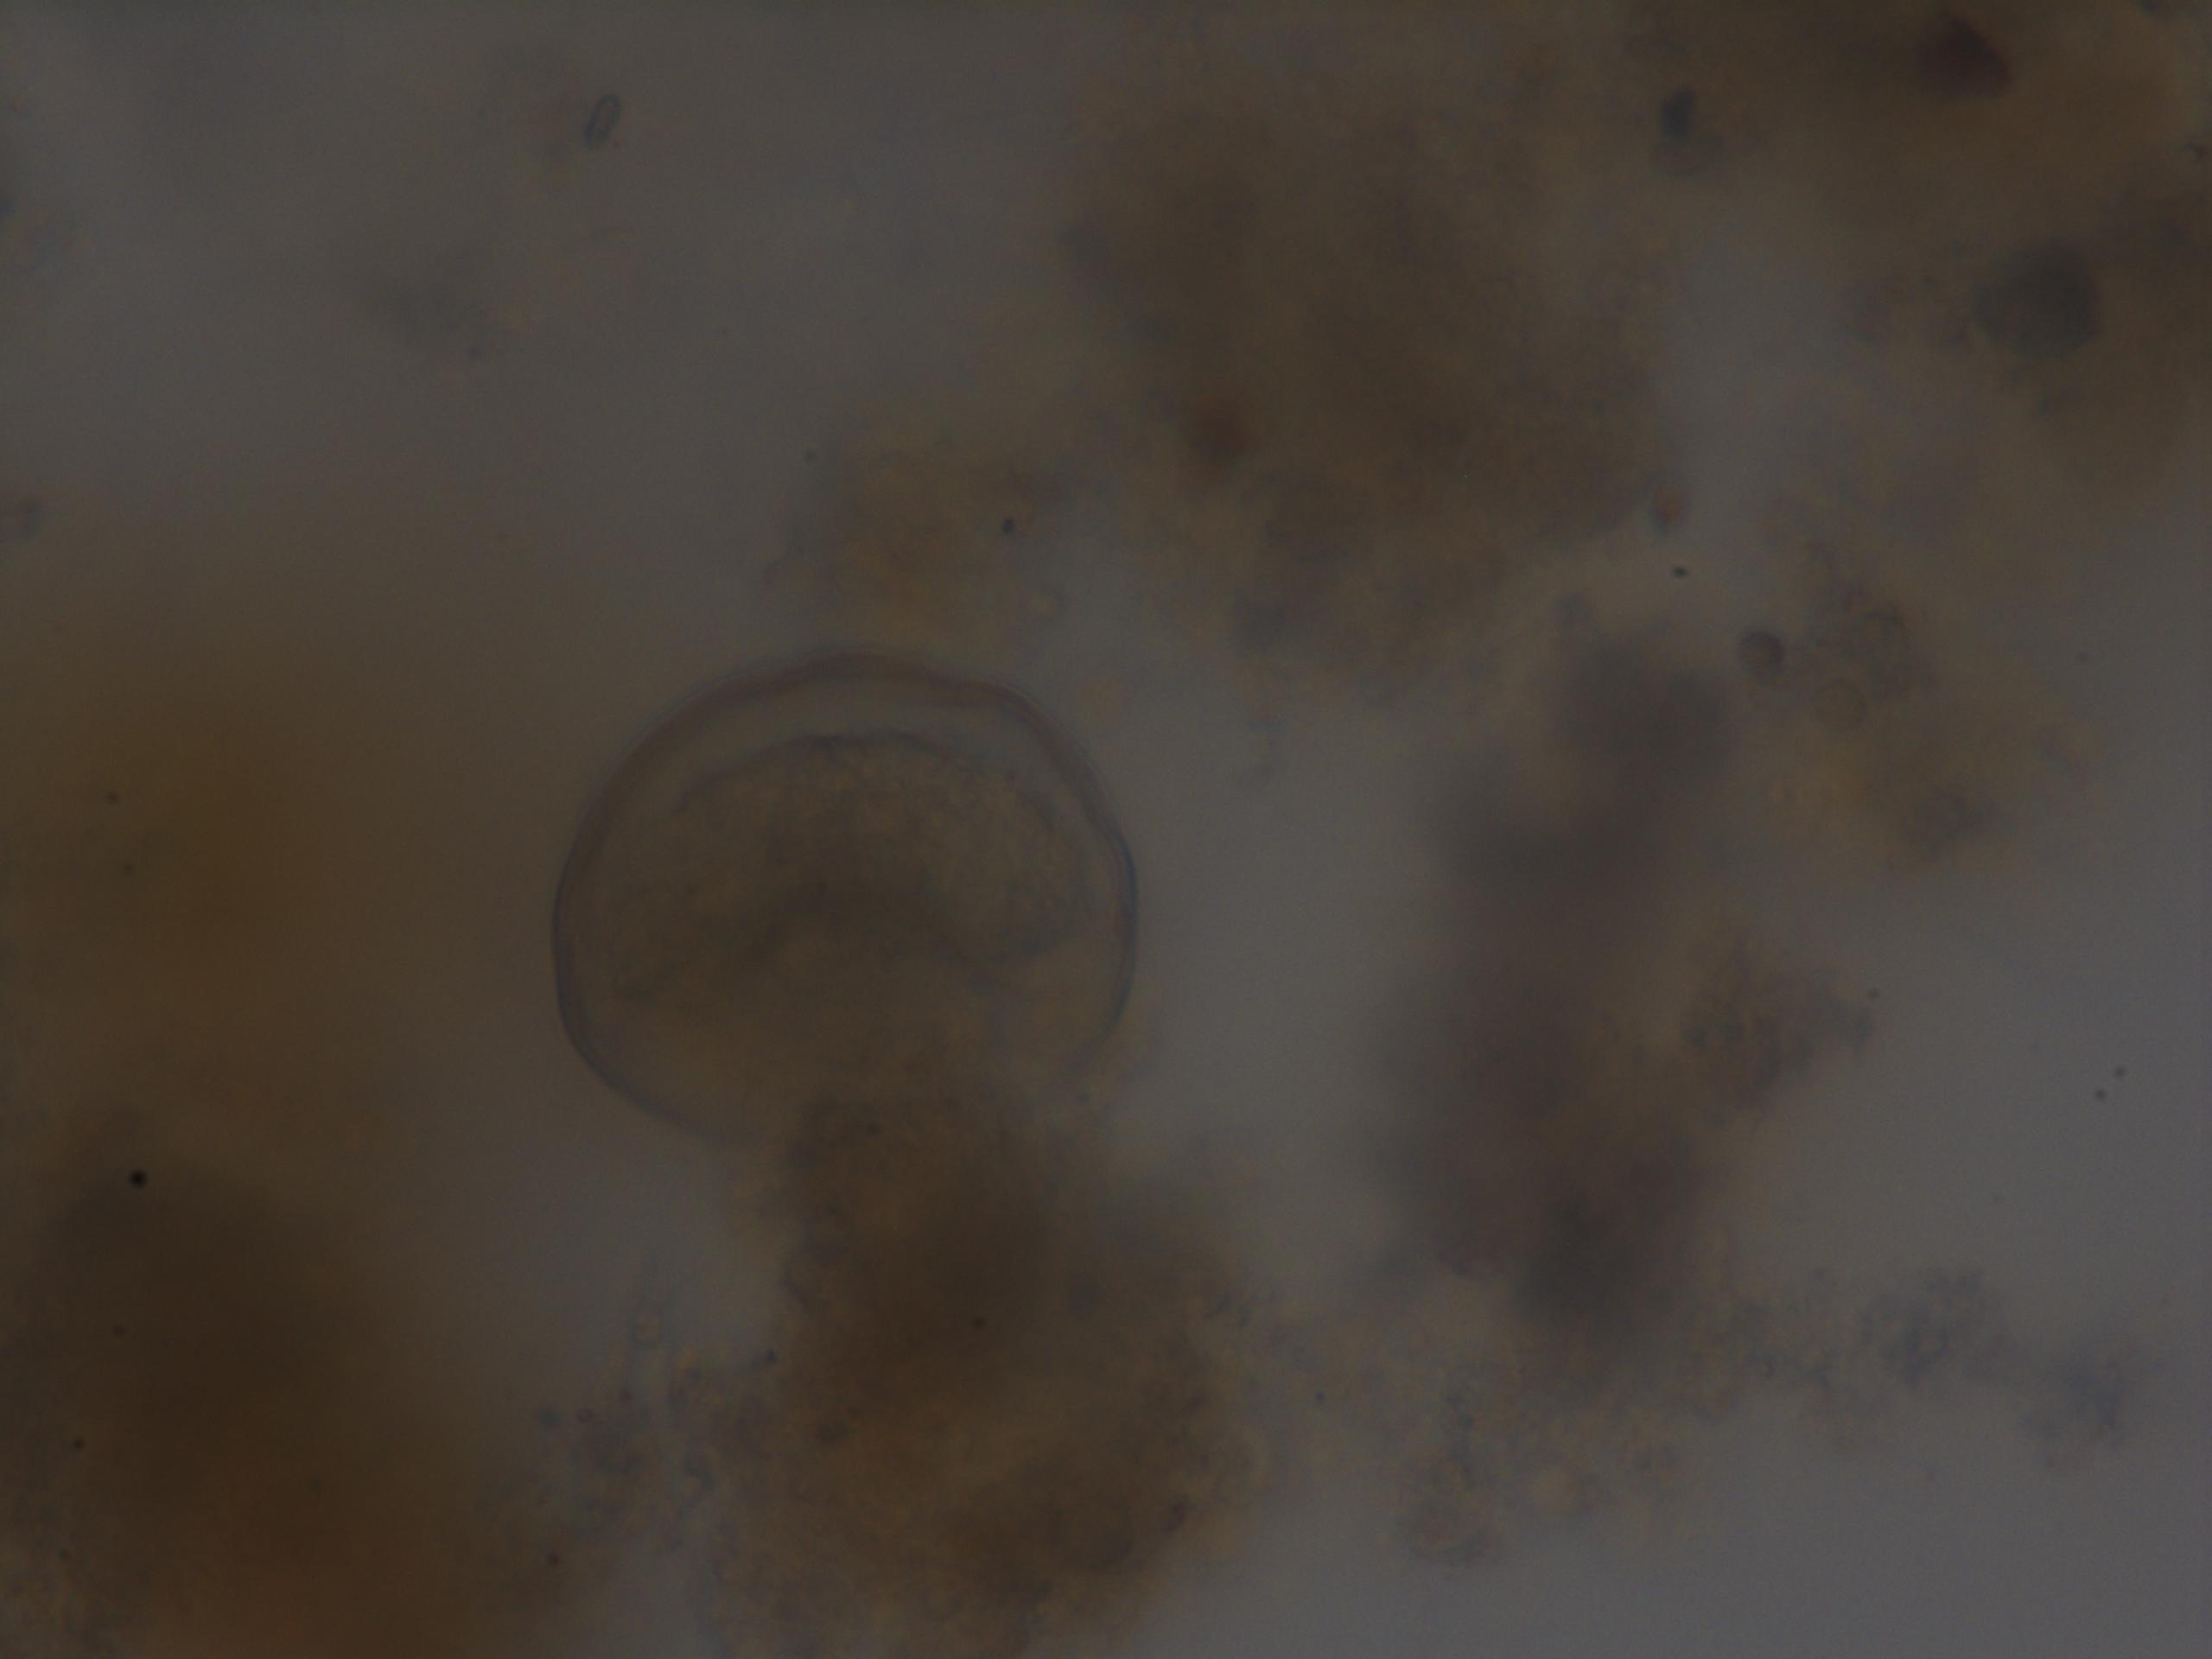protozoa: (538, 641, 1155, 1171)
